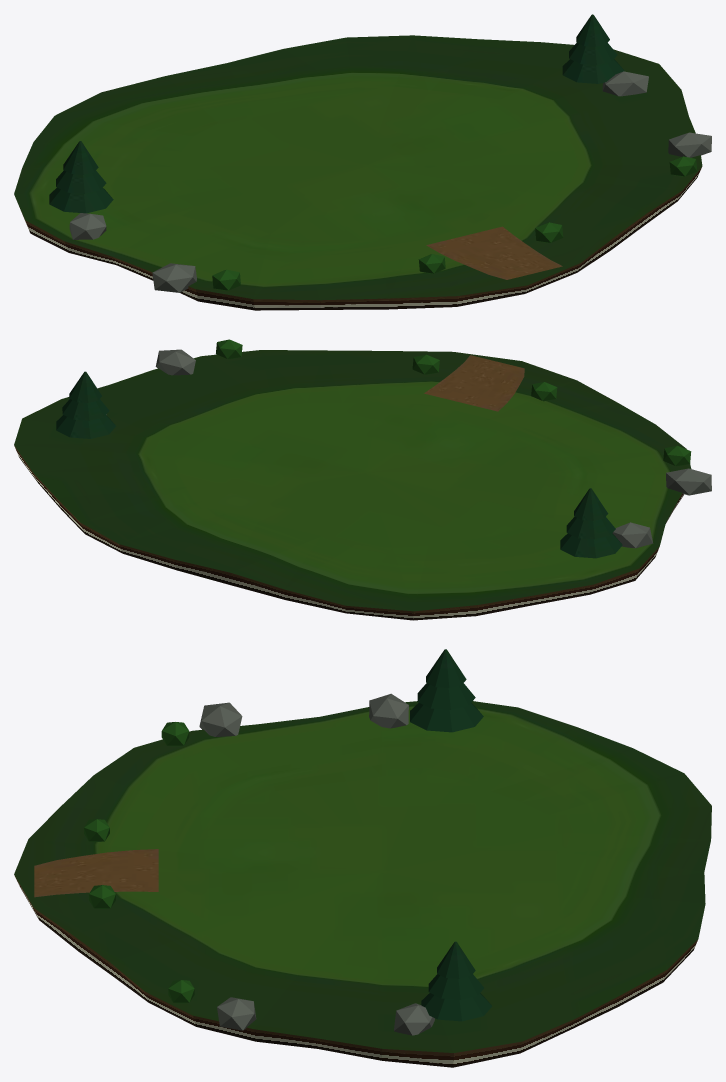
3 views of the same model, one above another, from view 1: azimuth 30°, elevation 25°; view 2: azimuth 150°, elevation 25°; view 3: azimuth 270°, elevation 25° (orthographic). The views are drawn at different scales.
Visible parts, largest first — view 1: WK_Castle_LandscapeBase_LOD2_Compact; view 2: WK_Castle_LandscapeBase_LOD2_Compact; view 3: WK_Castle_LandscapeBase_LOD2_Compact.
Boxes of the visible parts, <box> form: WK_Castle_LandscapeBase_LOD2_Compact: <box>14,14,711,310</box>; WK_Castle_LandscapeBase_LOD2_Compact: <box>14,339,711,620</box>; WK_Castle_LandscapeBase_LOD2_Compact: <box>14,649,711,1067</box>.
Size of the model in its own units: 18.53 by 2.3 by 15.37.
Materials: 1 (1 with a texture image).
